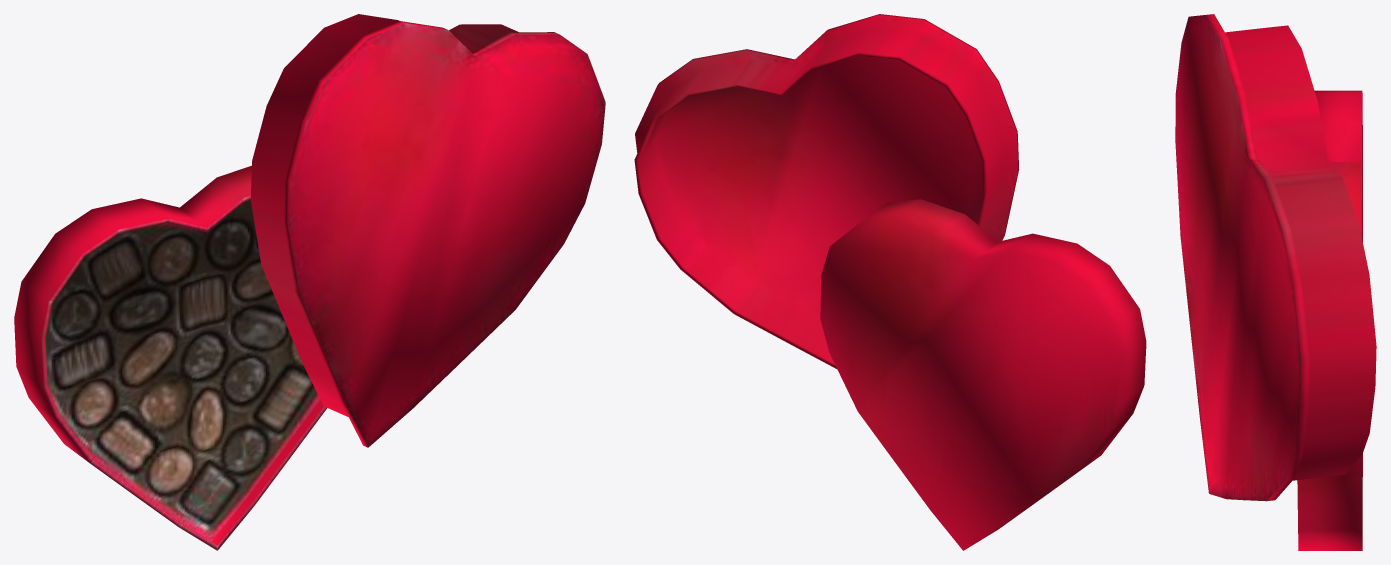
Rendered from heart_shaped_box.FBX.
The picture shows the model from 3 angles, left to right: view 1: azimuth 30°, elevation 25°; view 2: azimuth 150°, elevation 25°; view 3: azimuth 270°, elevation 25°; orthographic projection. The views are drawn at different scales.
Visible parts, largest first — view 1: heart_shaped_box; view 2: heart_shaped_box; view 3: heart_shaped_box.
Boxes of the visible parts, x1,y1,x2,y2 form: heart_shaped_box: (14,14,605,550); heart_shaped_box: (634,14,1146,550); heart_shaped_box: (1175,14,1376,550).
Size of the model in its own units: 80.7 by 70.23 by 21.37.
